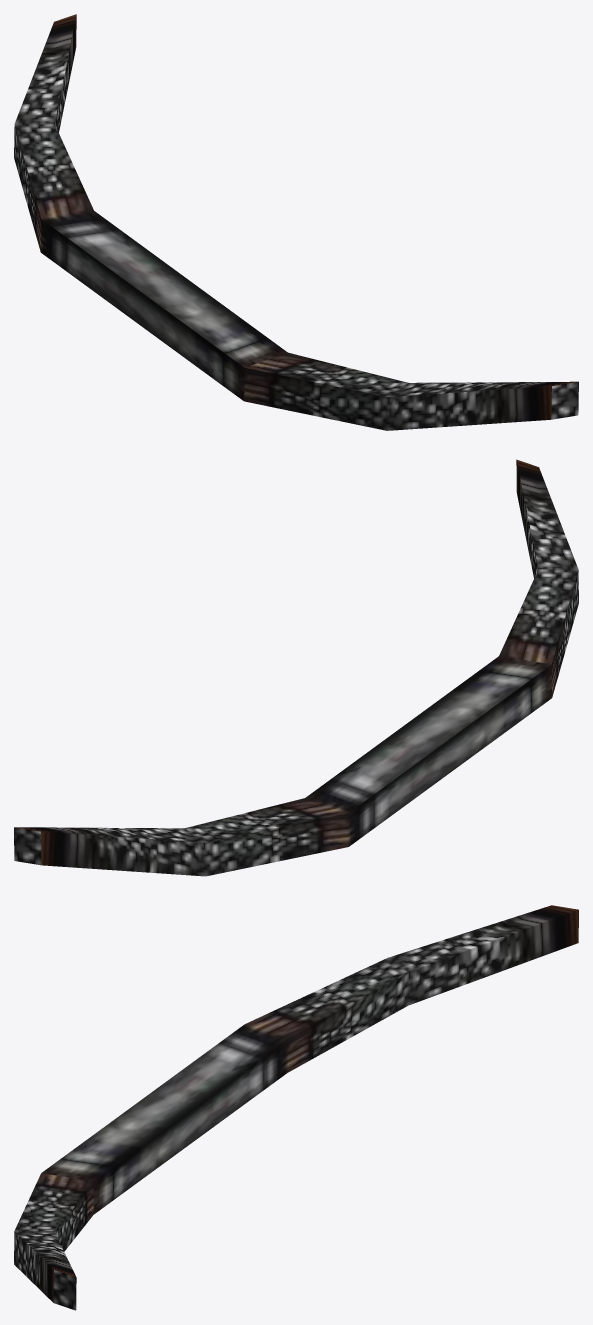
File: JELEC.glb
The picture shows the model from 3 angles, top to bottom: view 1: azimuth 30°, elevation 25°; view 2: azimuth 150°, elevation 25°; view 3: azimuth 330°, elevation 25°; orthographic projection.
Parts seen in each view (by area): view 1: JELEC; view 2: JELEC; view 3: JELEC.
Part boxes in pixels (<box>): JELEC: <box>14,14,578,430</box>; JELEC: <box>14,459,578,876</box>; JELEC: <box>14,905,578,1310</box>.
Size of the model in its own units: 0.1156 by 0.05 by 0.5427.
Materials: 1 (1 with a texture image).
